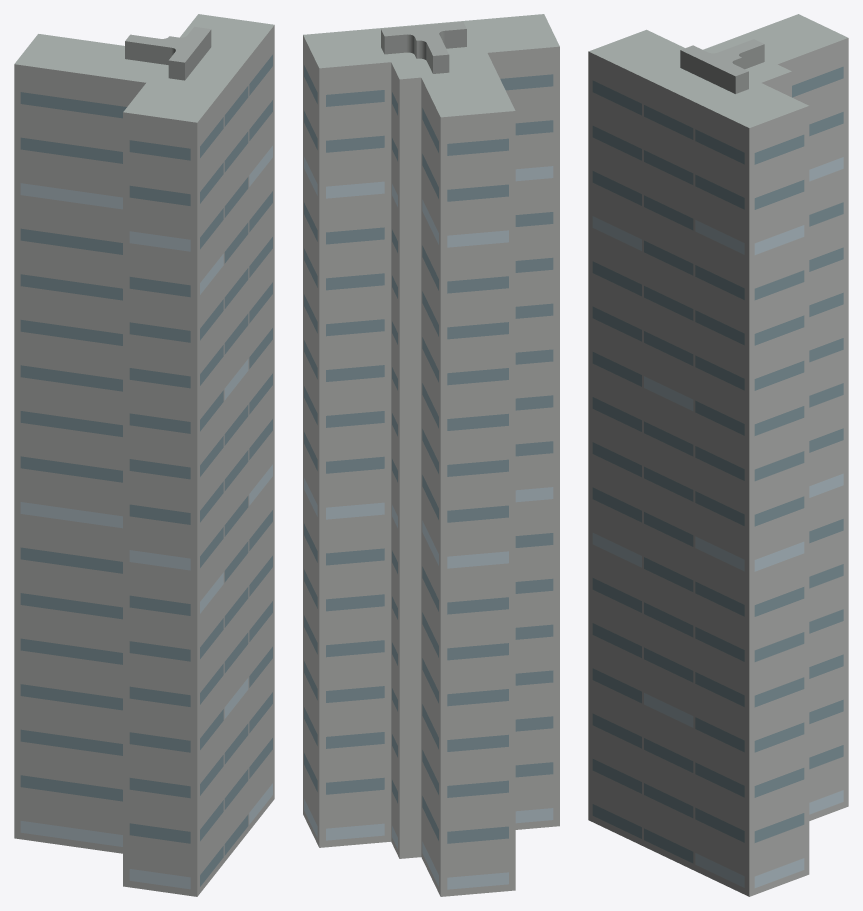
Rendered from fallback-gaepo-xi-presidence-425.glb.
3 views of the same model, side by side, from view 1: azimuth 30°, elevation 25°; view 2: azimuth 150°, elevation 25°; view 3: azimuth 270°, elevation 25° (orthographic).
Visible parts, largest first — view 1: fallback-gaepo-xi-presidence-425; view 2: fallback-gaepo-xi-presidence-425; view 3: fallback-gaepo-xi-presidence-425.
Part boxes in pixels (left/top/right/bottom): fallback-gaepo-xi-presidence-425: left=14, top=14, right=274, bottom=896; fallback-gaepo-xi-presidence-425: left=303, top=14, right=559, bottom=896; fallback-gaepo-xi-presidence-425: left=588, top=14, right=848, bottom=896.
Size of the model in its own units: 33.05 by 106 by 31.79.
